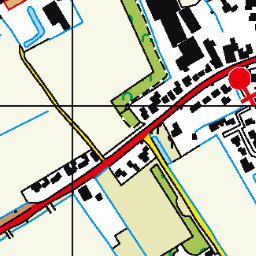church: (223, 65, 256, 107)
